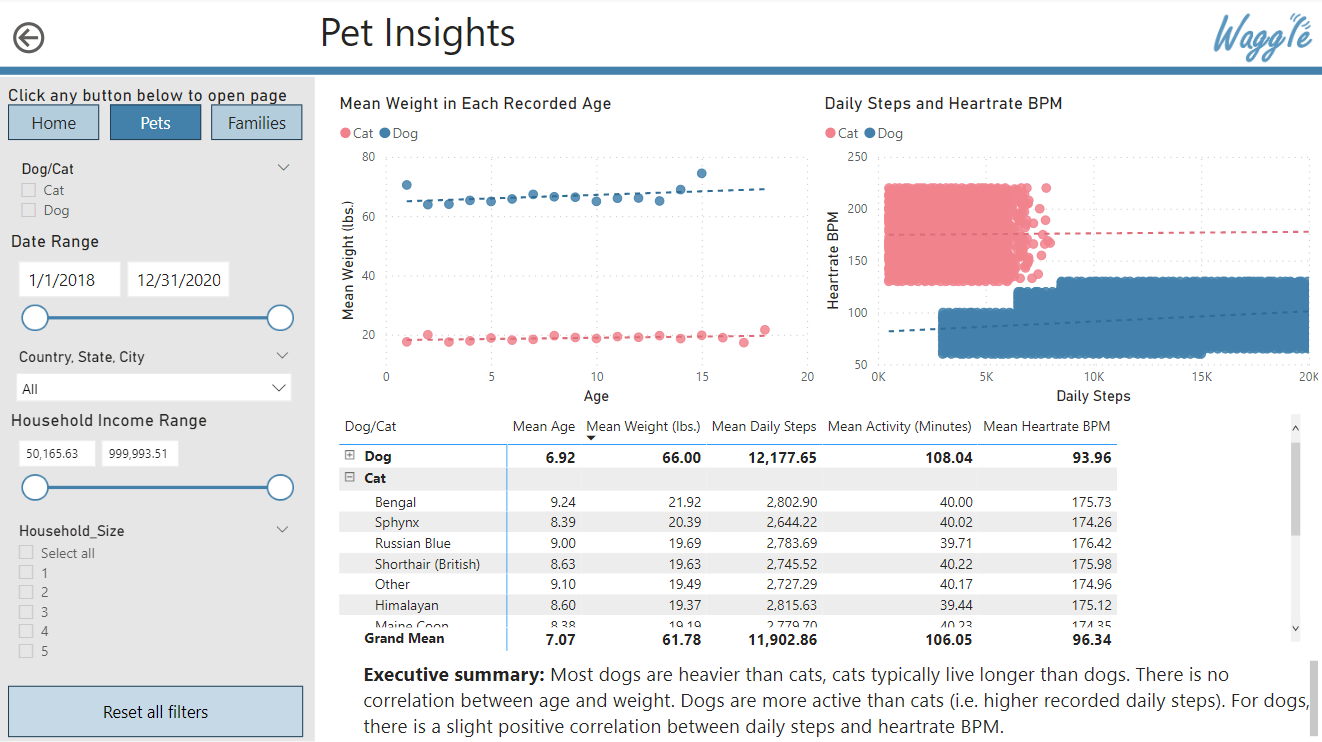

The page's visual inventory and layout, read from the dashboard file:
{"tool":"powerbi","page":{"name":"Pets","canvas":[1280,720],"ordinal":1},"visuals":[{"type":"shape","box":[0,76.3,305.3,643.3],"z":0},{"type":"textbox","box":[347.7,635.4,931.6,83.2],"z":1000},{"type":"scatterChart","title":"Mean Weight in Each Recorded Age","fields":{"X":["Pet_Data.Age"],"Y":["Pet_Data.Weight"],"Series":["Pet_Data.Dog/Cat"]},"box":[324.4,91.7,467.9,306.3],"z":2000},{"type":"shape","box":[0,65.4,1279.7,12.3],"z":3000},{"type":"image","box":[1159.8,2.7,119.9,73.6],"z":4000},{"type":"textbox","box":[305.1,2.4,974.5,62.7],"z":5000},{"type":"actionButton","box":[9.6,19.3,100.1,39.8],"z":6000},{"type":"pivotTable","fields":{"Rows":["Pet_Data.Dog/Cat","Pet_Data.Breed"],"Values":["Avg(Pet_Data.Age)","Avg(Pet_Data.Weight)","Avg(Tracker_Data.Daily_Steps)","Avg(Tracker_Data.Activity_Minutes)","Avg(Tracker_Data.Heartrate_BPM)"]},"box":[324.4,398,937.1,237.6],"z":7000},{"type":"scatterChart","title":"Daily Steps and Heartrate BPM","fields":{"X":["Tracker_Data.Daily_Steps"],"Y":["Tracker_Data.Heartrate_BPM"],"Series":["Pet_Data.Dog/Cat"]},"box":[792.4,91.7,487.4,306.3],"z":8000},{"type":"actionButton","box":[9.6,664.5,284.6,49.4],"z":9000},{"type":"pageNavigator","title":"Click any button below to open page","box":[9.8,84.4,285,53.8],"z":10000},{"type":"slicer","fields":{"Values":["Pet_Data.Dog/Cat"]},"box":[9.8,151.7,285,73.4],"z":11000},{"type":"slicer","title":"Date Range","fields":{"Values":["Date_Table.Date"]},"box":[7.3,225.1,286.2,105.2],"z":12000},{"type":"slicer","fields":{"Values":["Family_Data.Country","Family_Data.State","Family_Data.City"]},"box":[7.3,333.9,286.2,74.6],"z":13000},{"type":"slicer","title":"Household Income Range","fields":{"Values":["Family_Data.Household_Income"]},"box":[7.3,397.6,286.2,104],"z":14000},{"type":"slicer","fields":{"Values":["Family_Data.Household_Size"]},"box":[7.3,501.5,286.2,150.5],"z":15000}]}

Visuals, with their boxes on the page's 1280x720 design canvas (x1, y1, x2, y2). These are canvas units, not pixel positions in the 1322x742 screenshot, which may show the page scaled, cropped or inside an application window:
shape: <region>0, 76, 305, 720</region>
textbox: <region>348, 635, 1279, 719</region>
"Mean Weight in Each Recorded Age" scatterChart: <region>324, 92, 792, 398</region>
shape: <region>0, 65, 1280, 78</region>
image: <region>1160, 3, 1280, 76</region>
textbox: <region>305, 2, 1280, 65</region>
actionButton: <region>10, 19, 110, 59</region>
pivotTable - Pet_Data.Dog/Cat x Pet_Data.Breed: <region>324, 398, 1262, 636</region>
"Daily Steps and Heartrate BPM" scatterChart: <region>792, 92, 1280, 398</region>
actionButton: <region>10, 664, 294, 714</region>
"Click any button below to open page" pageNavigator: <region>10, 84, 295, 138</region>
slicer - Pet_Data.Dog/Cat: <region>10, 152, 295, 225</region>
"Date Range" slicer: <region>7, 225, 294, 330</region>
slicer - Family_Data.Country x Family_Data.State: <region>7, 334, 294, 408</region>
"Household Income Range" slicer: <region>7, 398, 294, 502</region>
slicer - Family_Data.Household_Size: <region>7, 502, 294, 652</region>
